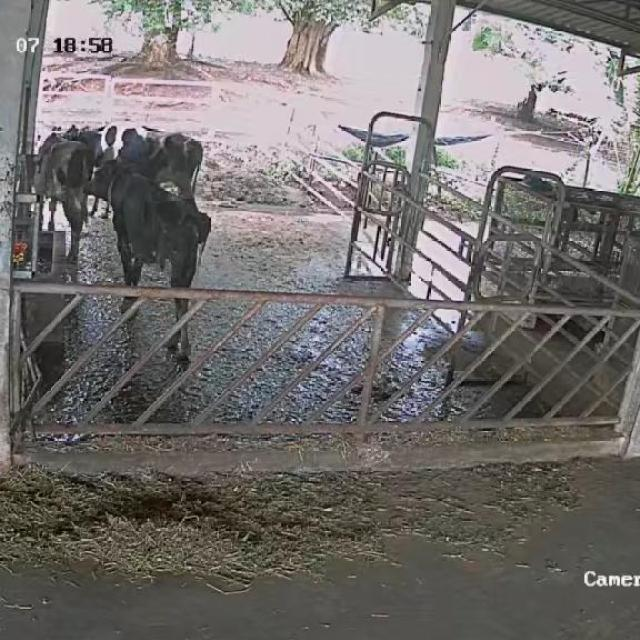standing: (74, 157, 214, 363), (68, 122, 208, 201), (27, 129, 96, 264)
